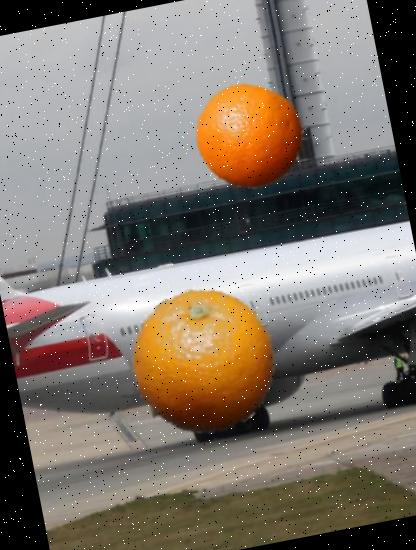Orange: (117, 276, 289, 448), (185, 72, 313, 200)
